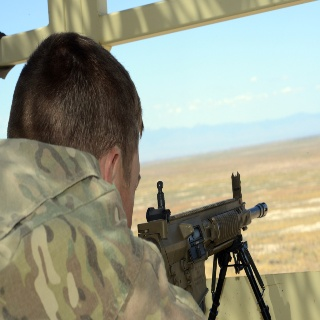rifle: (134, 171, 272, 320)
